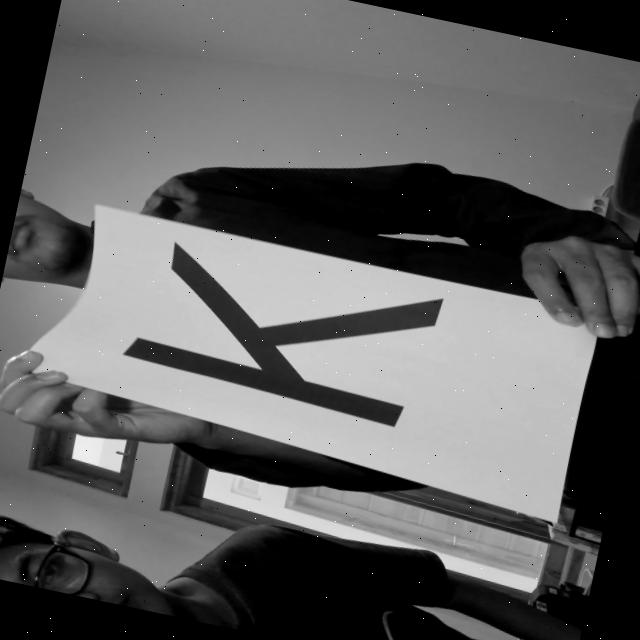k: (89, 222, 464, 447)
